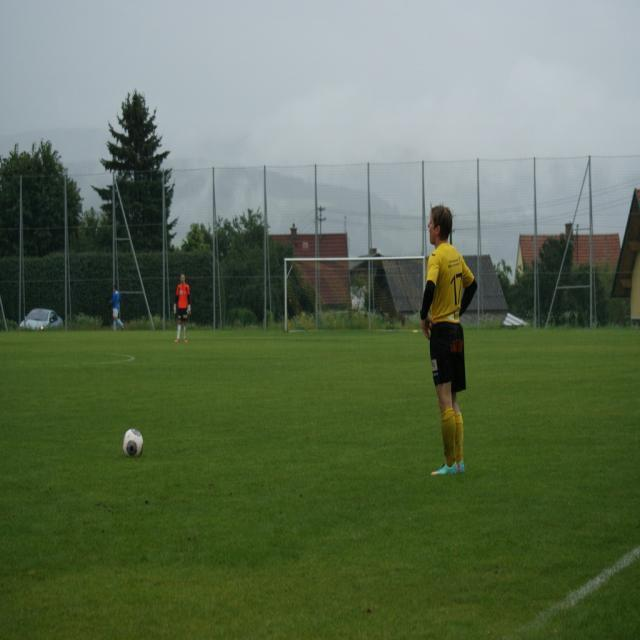football: (119, 428, 149, 457)
